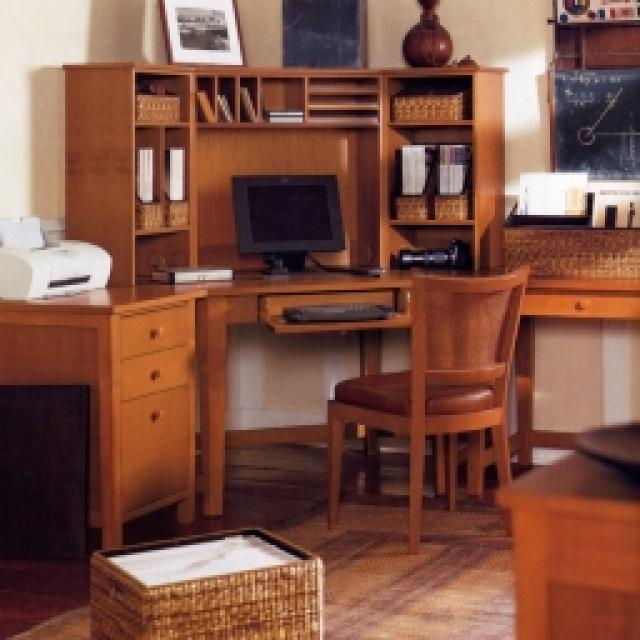AIO PC-Monitor-TV: (231, 173, 346, 254)
Kursi: (325, 265, 531, 554)
